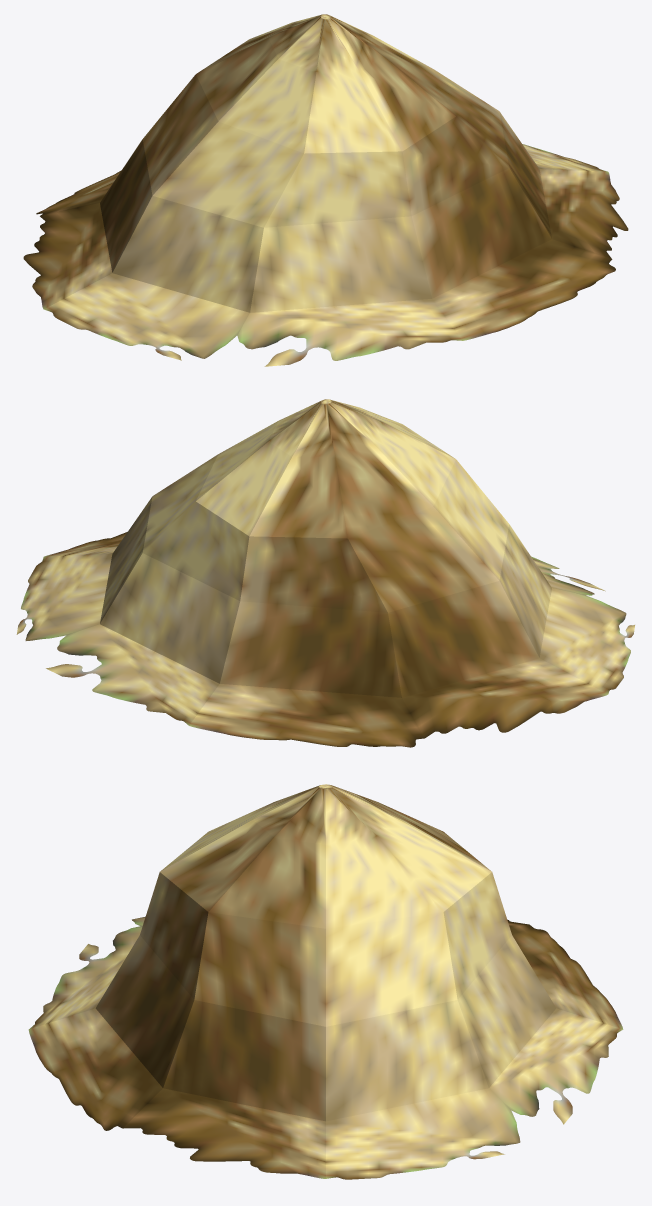
File: Poly_World_Map_Pile_Of_Sand_01.obj
3 renders of one model, top to bottom at view 1: azimuth 30°, elevation 25°; view 2: azimuth 150°, elevation 25°; view 3: azimuth 270°, elevation 25°, orthographic. The views are drawn at different scales.
Visible parts, largest first — view 1: Grid.001; view 2: Grid.001; view 3: Grid.001.
Part boxes in pixels (left/top/right/bottom): Grid.001: left=23, top=14, right=628, bottom=366; Grid.001: left=16, top=399, right=634, bottom=747; Grid.001: left=28, top=784, right=623, bottom=1179.
Size of the model in its own units: 1.2 by 0.4411 by 1.01.
Materials: 1 (1 with a texture image).
